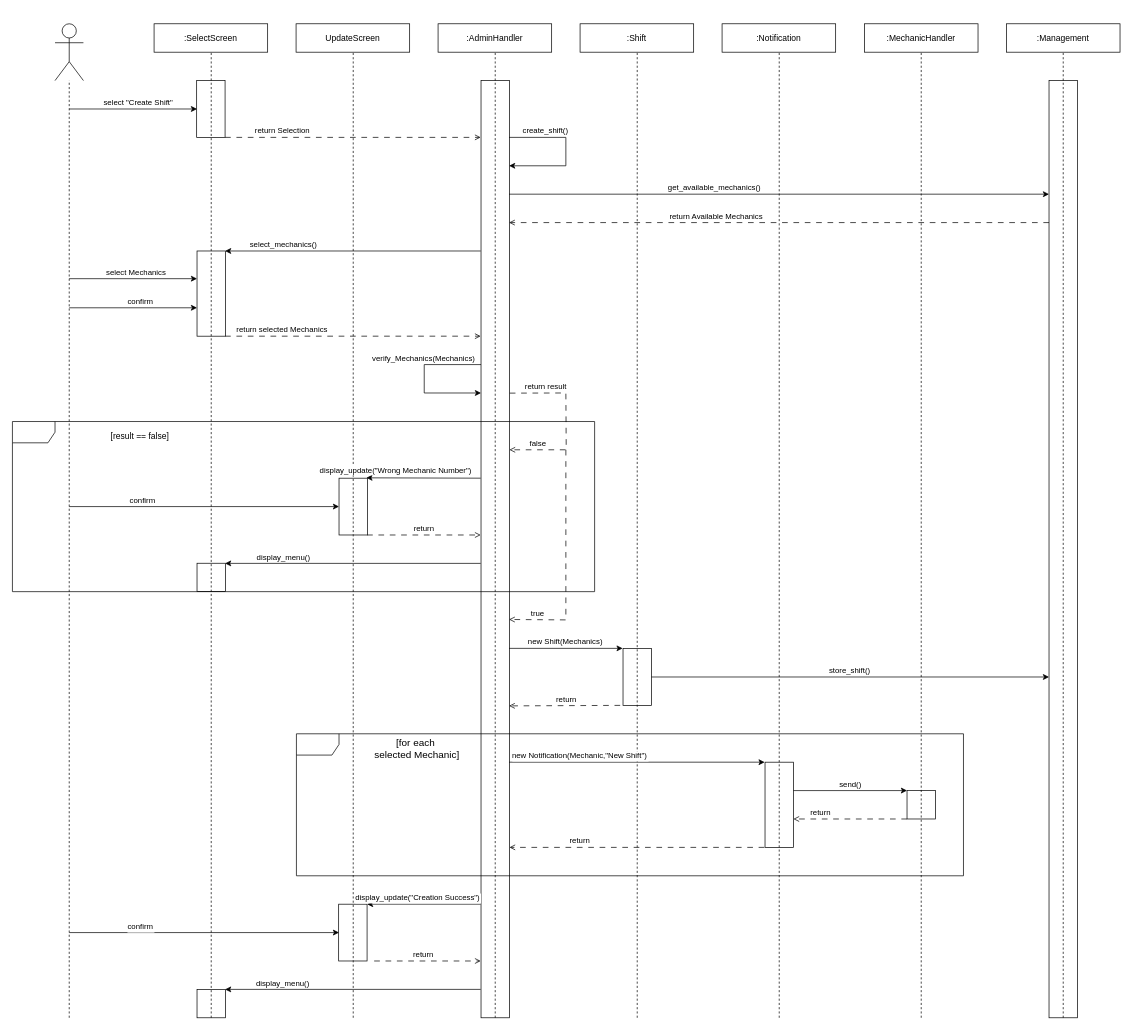
Some shapes in this 1132 by 1031 pixel diagram are drawn without their labels. Each missing label, with the centre of its shape:
Admin: the point at 68,52
loop: the point at 629,804
opt: the point at 303,506
